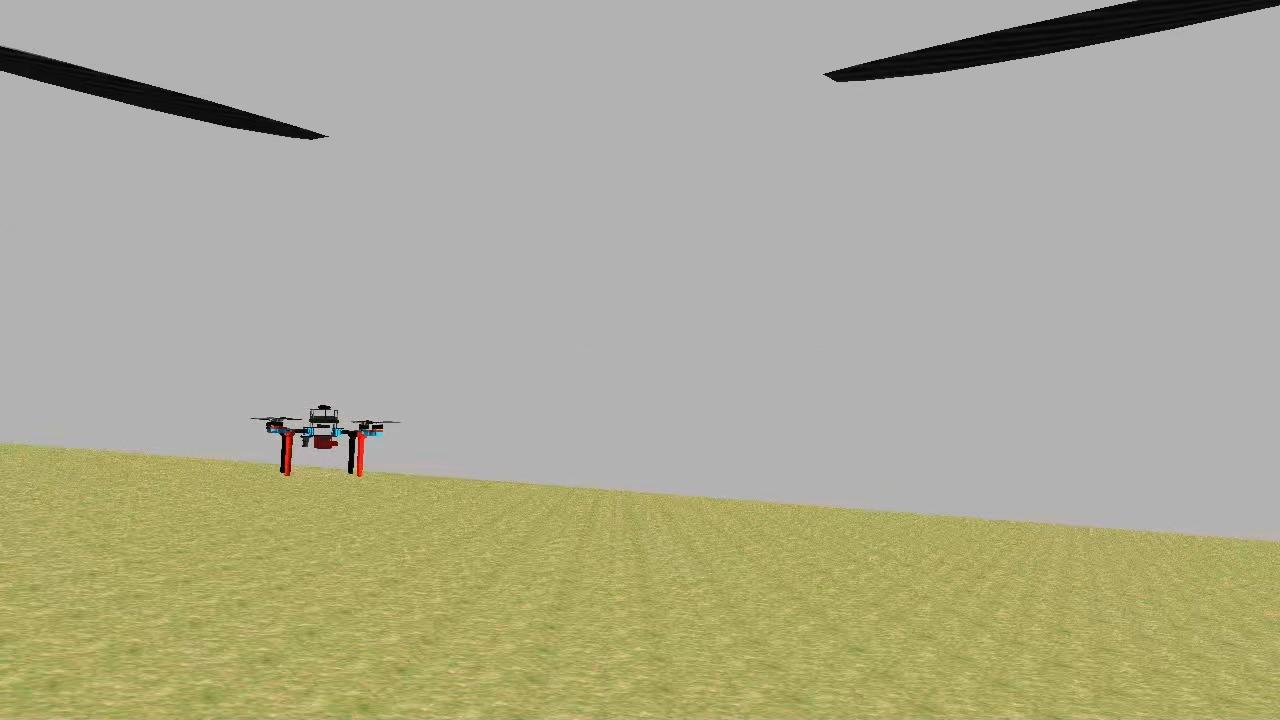UAV: (260, 400, 388, 482)
